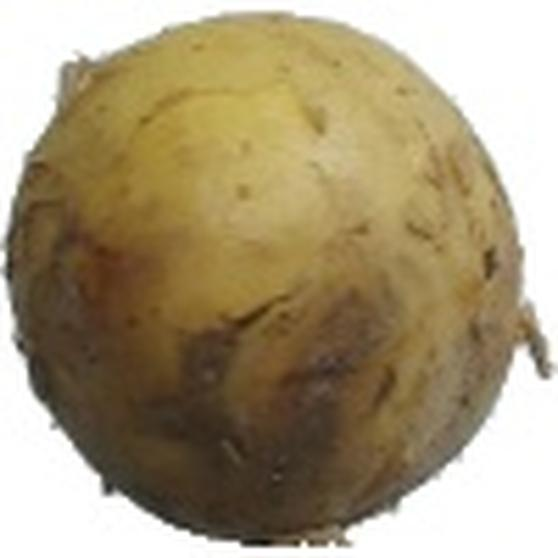onion: (9, 15, 545, 546)
